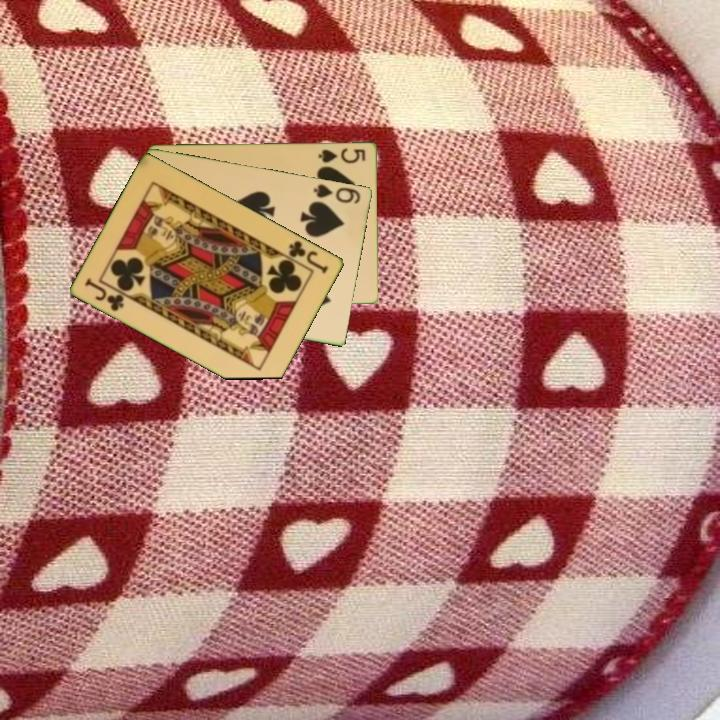5s: (315, 144, 368, 166)
6s: (310, 180, 364, 206)
Jc: (285, 237, 332, 277), (81, 274, 127, 314)
